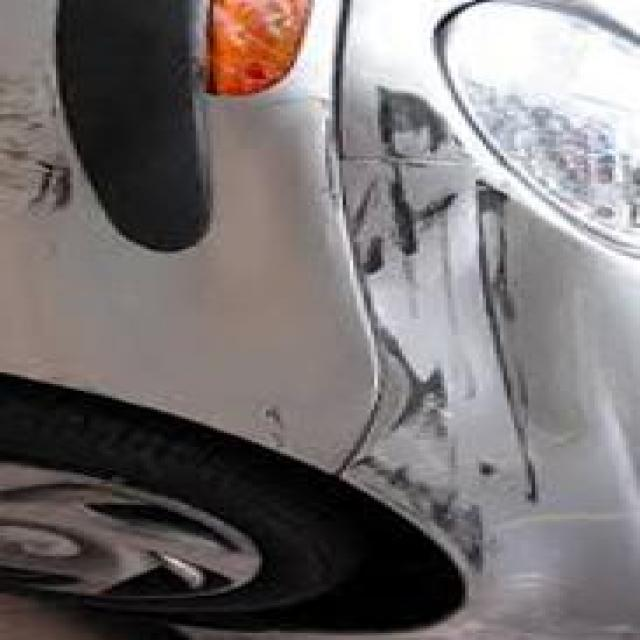scratch: (312, 64, 552, 574), (3, 68, 91, 252)
